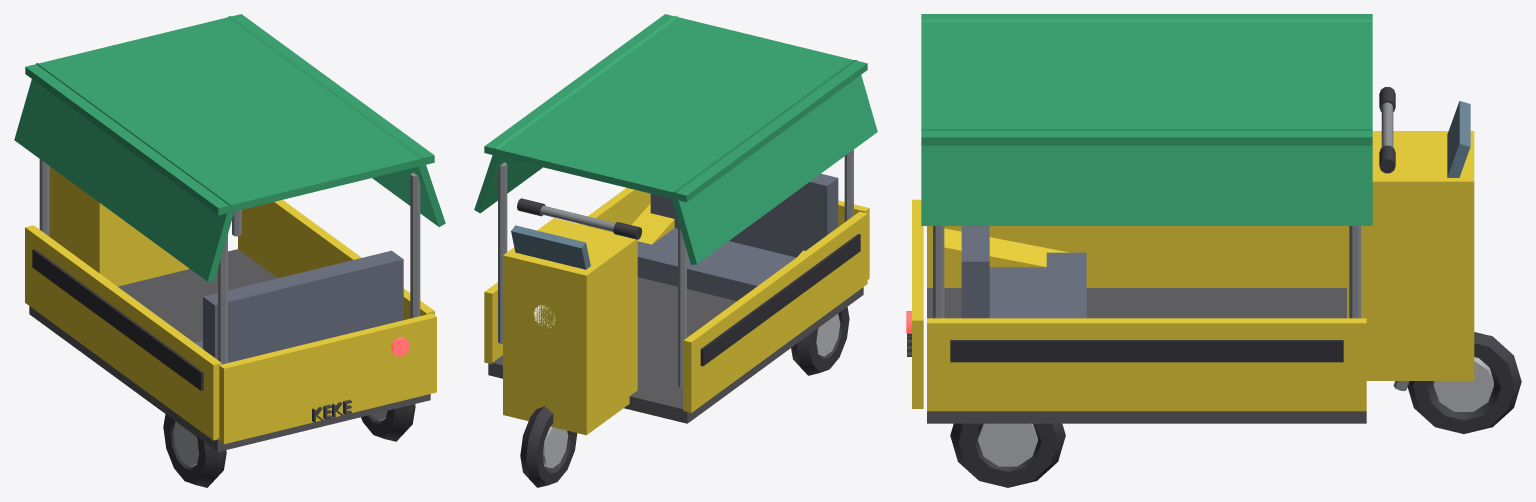
File: keke.glb
3 views of the same model, side by side, from view 1: azimuth 30°, elevation 25°; view 2: azimuth 150°, elevation 25°; view 3: azimuth 270°, elevation 25° (orthographic). The views are drawn at different scales.
Visible parts, largest first — view 1: keke_body, wheel_RL, wheel_RR; view 2: keke_body, wheel_F, wheel_RL; view 3: keke_body, wheel_F, wheel_RR.
Boxes of the visible parts, x1,y1,x2,y2 form: keke_body: (14, 14, 445, 451); wheel_RL: (163, 414, 226, 487); wheel_RR: (361, 404, 415, 441); keke_body: (474, 14, 877, 435); wheel_F: (520, 406, 577, 487); wheel_RL: (791, 307, 849, 375); keke_body: (906, 14, 1474, 423); wheel_F: (1407, 332, 1521, 433); wheel_RR: (950, 423, 1065, 487).
Bounding box in the file's own units: 1.39 × 1.72 × 2.66.
